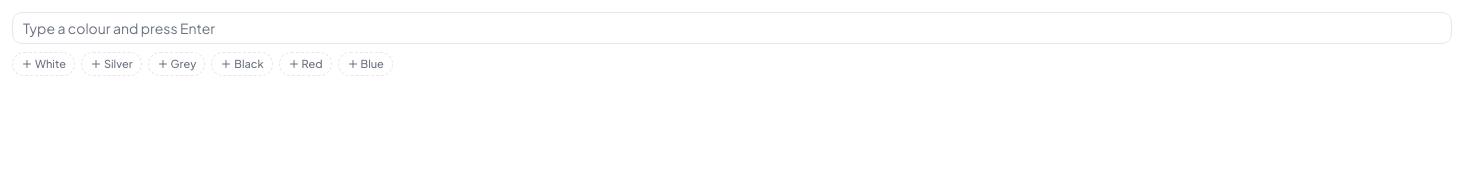
Test: ColourPicker › picks a suggested colour as a chip
Click the button "Silver". click: [111, 64]
box: [81,52,142,76]
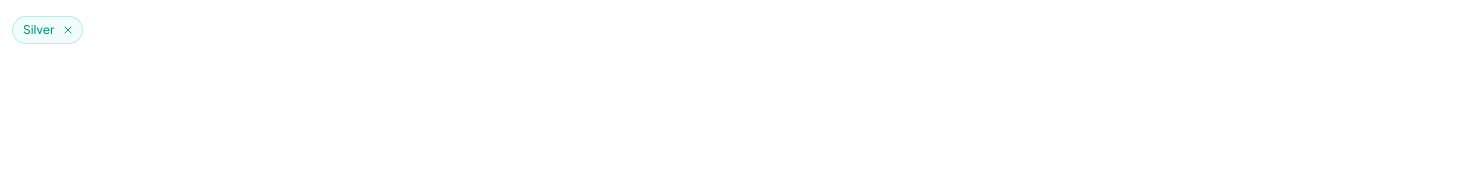
Expected: the text "Silver" is shown, [12,16,83,44]
Result: the field is gone
